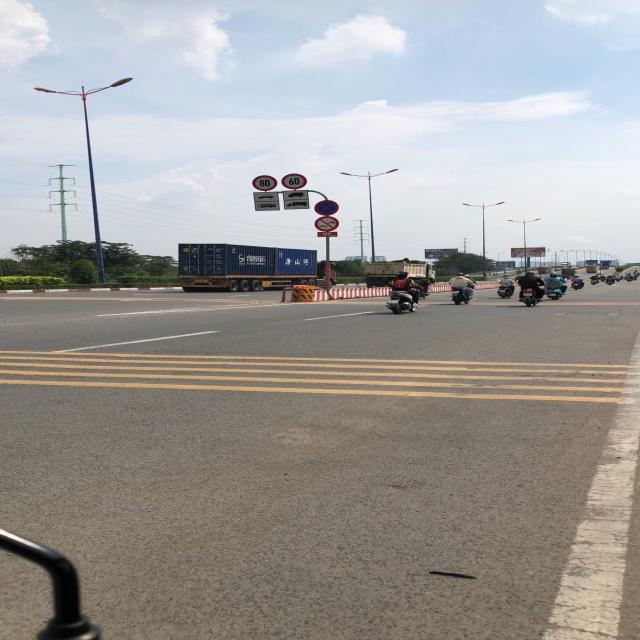Bien bao cam dung xe va do xe: (313, 199, 340, 216)
Bien bao toc do toi da cho phep: (280, 172, 309, 190), (251, 174, 279, 192)
